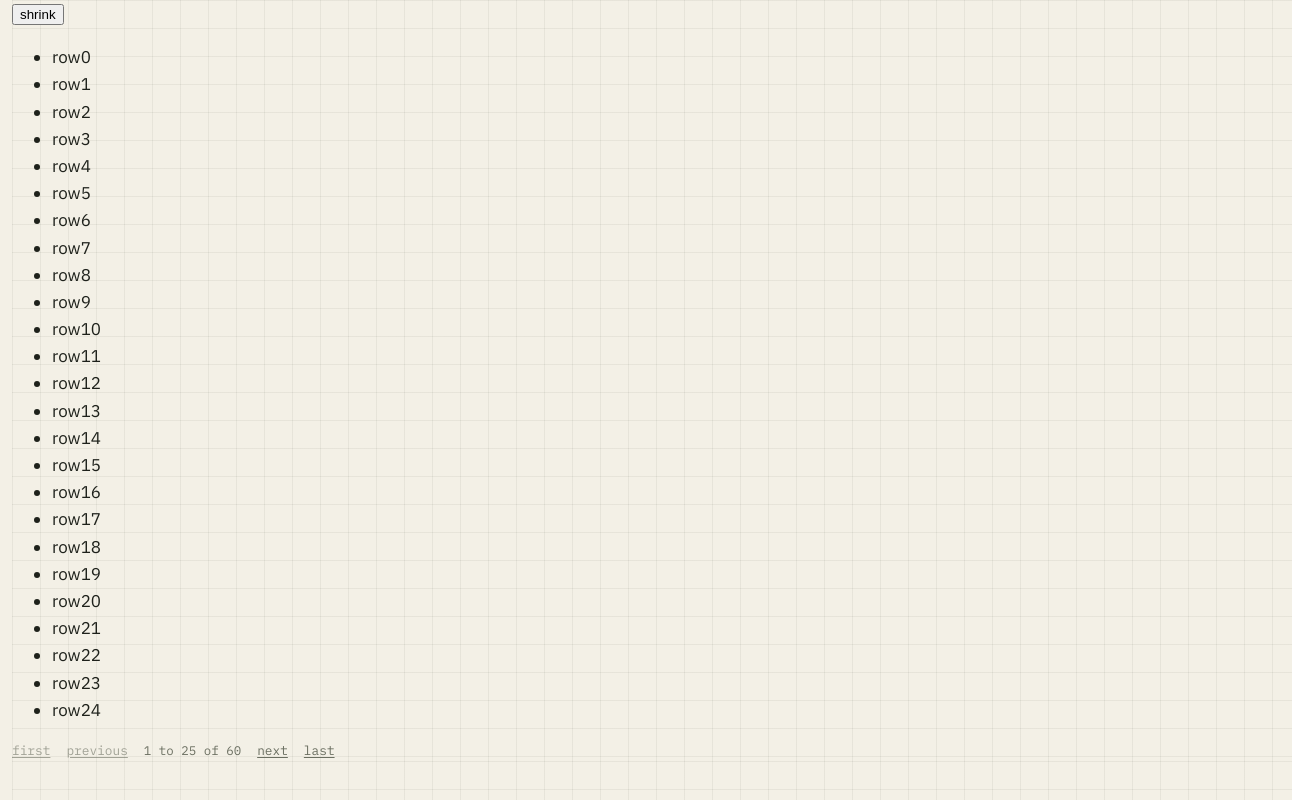
Test: Pager › shows one page at a time and says where you are
Check: the text "1 to 25 of 60" is shown, box [144,741,241,761]
Click the button "next" at (272, 751), box [257,741,288,761]
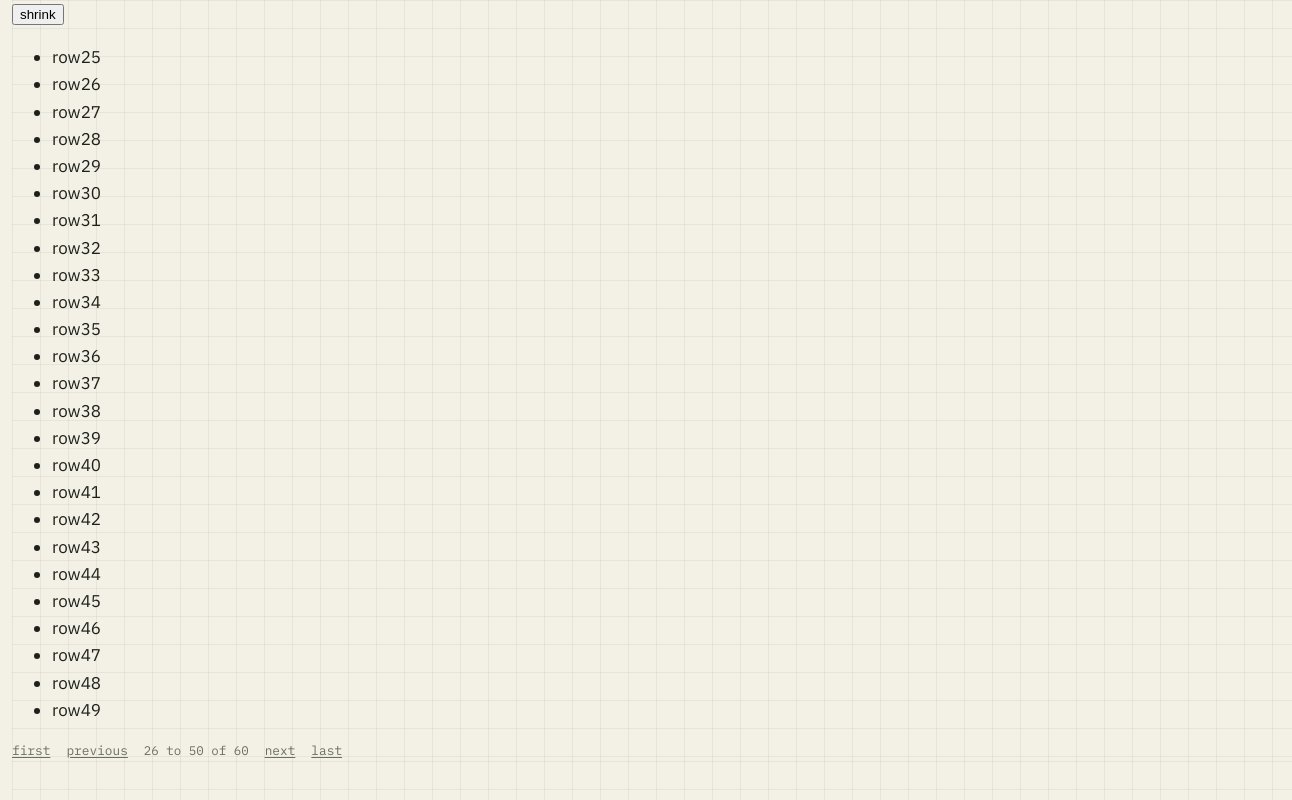
Check: the text "26 to 50 of 60" is shown, box [144,741,249,761]
